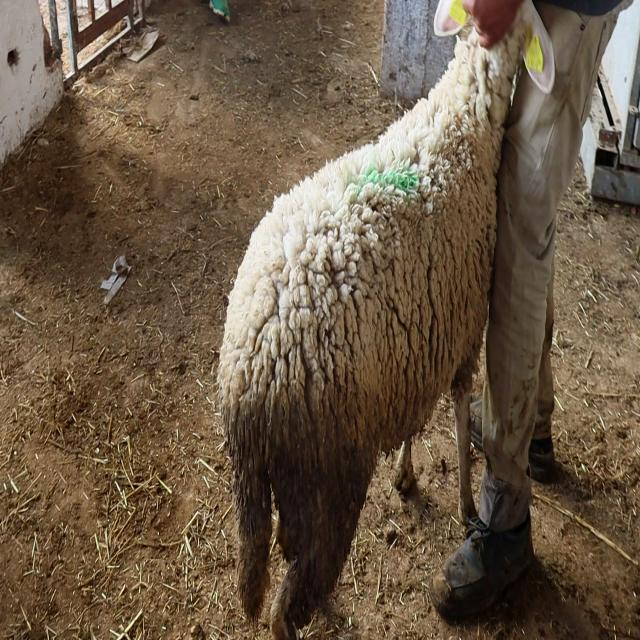Score_3: (218, 0, 555, 639)
